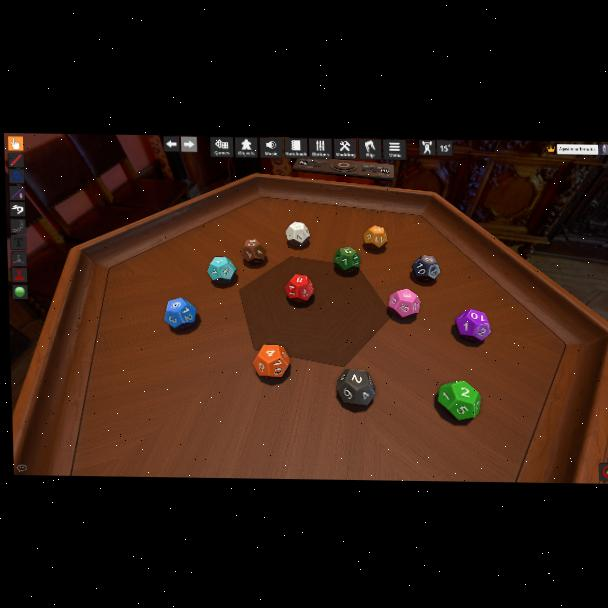d12: (435, 379, 479, 420), (336, 368, 375, 404), (252, 344, 291, 378), (454, 309, 490, 343), (164, 297, 198, 330), (388, 288, 418, 318), (285, 275, 316, 304), (207, 257, 235, 285), (416, 256, 441, 283), (334, 246, 359, 272), (240, 239, 264, 264), (363, 226, 387, 251), (285, 221, 309, 245)
